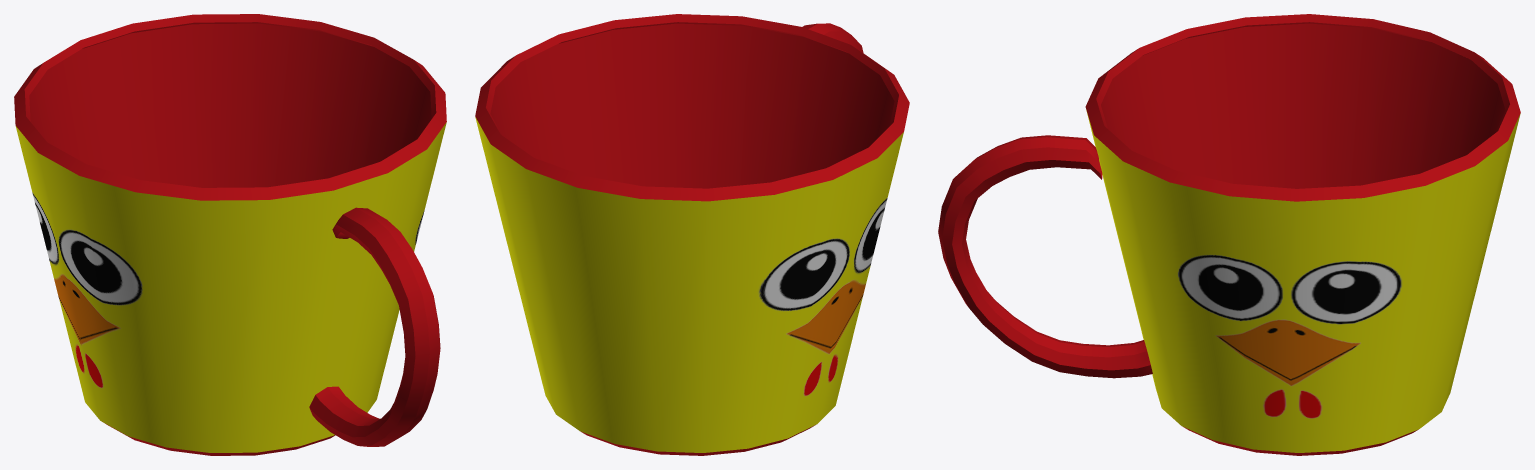
Rendered from cup.1.fbx.
3 renders of one model, left to right at view 1: azimuth 30°, elevation 25°; view 2: azimuth 150°, elevation 25°; view 3: azimuth 270°, elevation 25°, orthographic.
Visible parts, largest first — view 1: pCylinder15; view 2: pCylinder15; view 3: pCylinder15.
Part boxes in pixels (x1,y1,x2,y2): pCylinder15: (14,14,446,455); pCylinder15: (475,14,909,455); pCylinder15: (938,14,1520,455).
Bounding box in the file's own units: 7.57 × 5.69 × 10.14.
